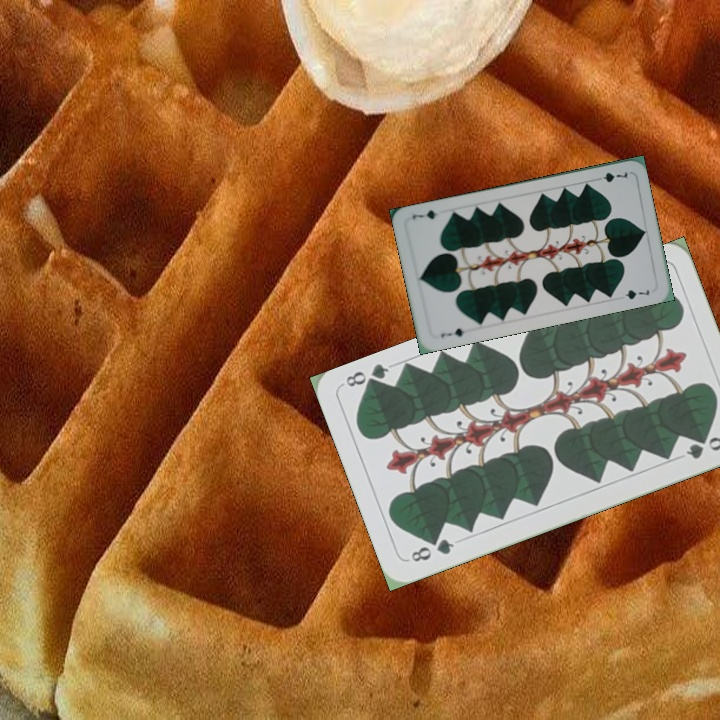G7: (590, 168, 631, 185), (437, 324, 467, 340)
G8: (406, 534, 457, 565)
